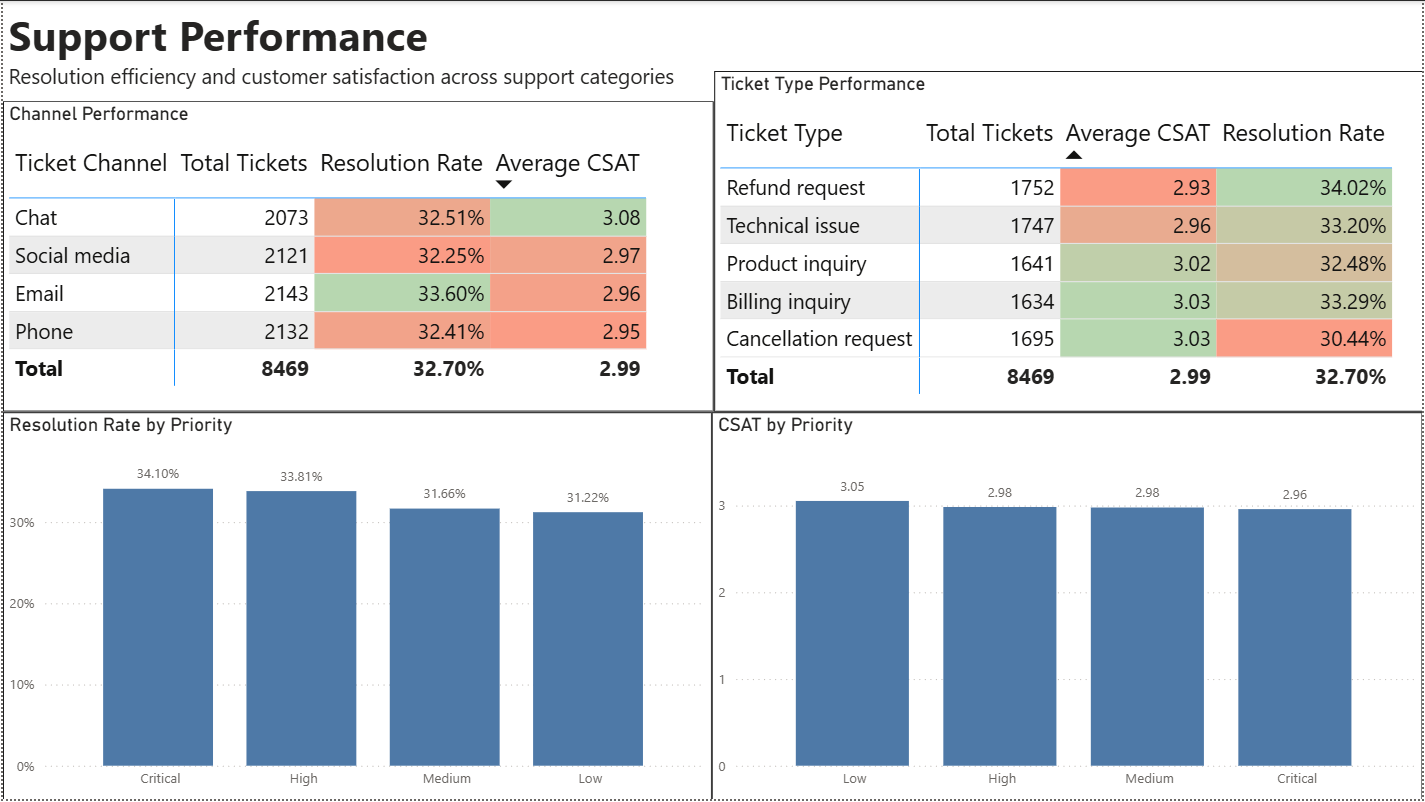

What the dashboard file says about the page in this screenshot:
{"tool":"powerbi","page":{"name":"Support Performance","canvas":[1280,720],"ordinal":1},"visuals":[{"type":"pivotTable","title":"Ticket Type Performance","fields":{"Rows":["customer_support_tickets.Ticket Type"],"Values":["Measures (2).Total Tickets","Measures (2).Average CSAT","Measures (2).Resolution Rate"]},"box":[640.8,63.1,639.5,307.4],"z":0},{"type":"clusteredColumnChart","title":"Resolution Rate by Priority","fields":{"Y":["Measures (2).Resolution Rate"],"Category":["customer_support_tickets.Ticket Priority"]},"box":[0,370.5,639.5,349.9],"z":1000},{"type":"clusteredColumnChart","title":"CSAT by Priority","fields":{"Category":["customer_support_tickets.Ticket Priority"],"Y":["Measures (2).Average CSAT"]},"box":[639.5,370.5,640.8,349.9],"z":2000},{"type":"pivotTable","title":"Channel Performance","fields":{"Values":["Measures (2).Total Tickets","Measures (2).Resolution Rate","Measures (2).Average CSAT"],"Rows":["customer_support_tickets.Ticket Channel"]},"box":[0,90.6,640.8,279.9],"z":3000},{"type":"textbox","box":[0,0,640.8,90.6],"z":4000}]}

Visuals, with their boxes in screenshot pixels (x1, y1, x2, y2), scaled from the page's 1280x720 canvas onto the 1425x802 screenshot:
"Ticket Type Performance" pivotTable: box(713, 70, 1424, 413)
"Resolution Rate by Priority" clusteredColumnChart: box(0, 413, 712, 801)
"CSAT by Priority" clusteredColumnChart: box(712, 413, 1424, 801)
"Channel Performance" pivotTable: box(0, 101, 713, 413)
textbox: box(0, 0, 713, 101)
